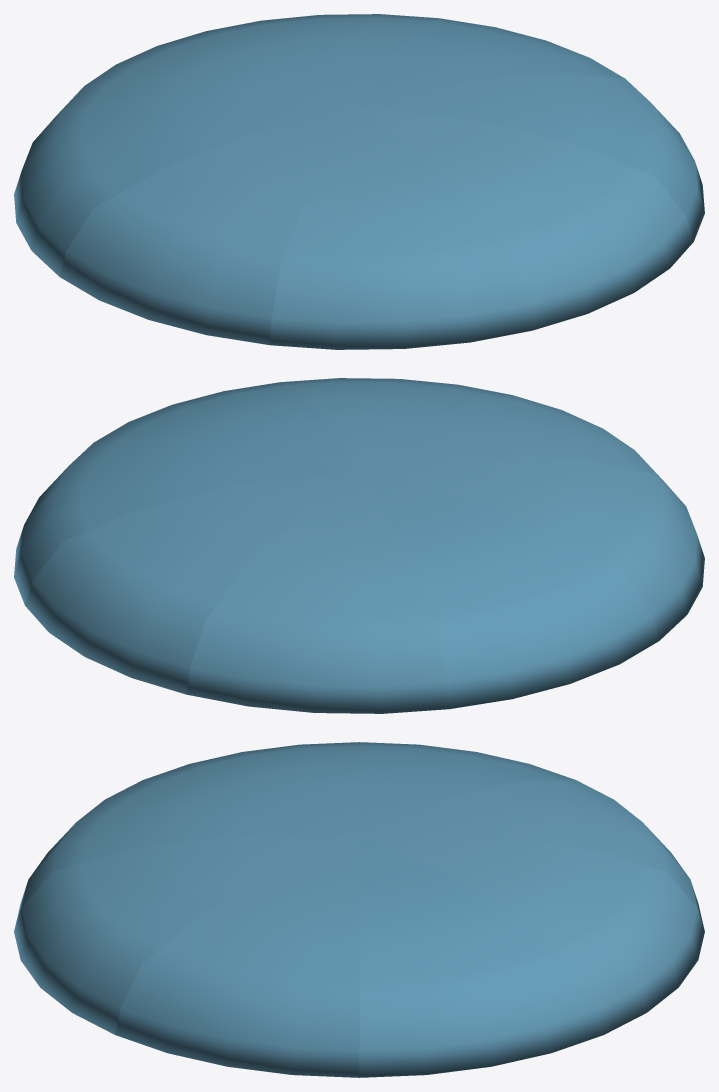
File: su birikintisi.fbx
3 views of the same model, one above another, from view 1: azimuth 30°, elevation 25°; view 2: azimuth 150°, elevation 25°; view 3: azimuth 270°, elevation 25° (orthographic).
Visible parts, largest first — view 1: Circle.003; view 2: Circle.003; view 3: Circle.003.
Boxes of the visible parts, x1,y1,x2,y2 form: Circle.003: (14,14,704,349); Circle.003: (14,378,704,713); Circle.003: (14,742,704,1077).
Bounding box in the file's own units: 84.7 × 12.99 × 84.7.
Materials: 1 (1 with a texture image).
